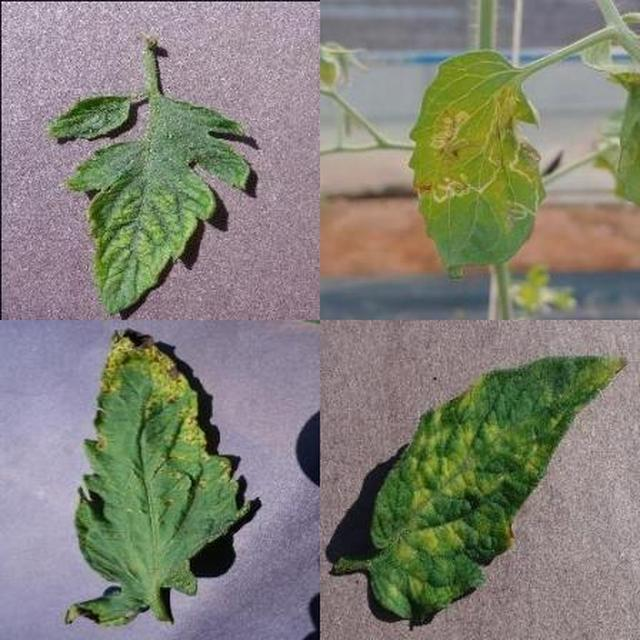Mosaic Virus Leaf: (200, 234, 640, 640)
